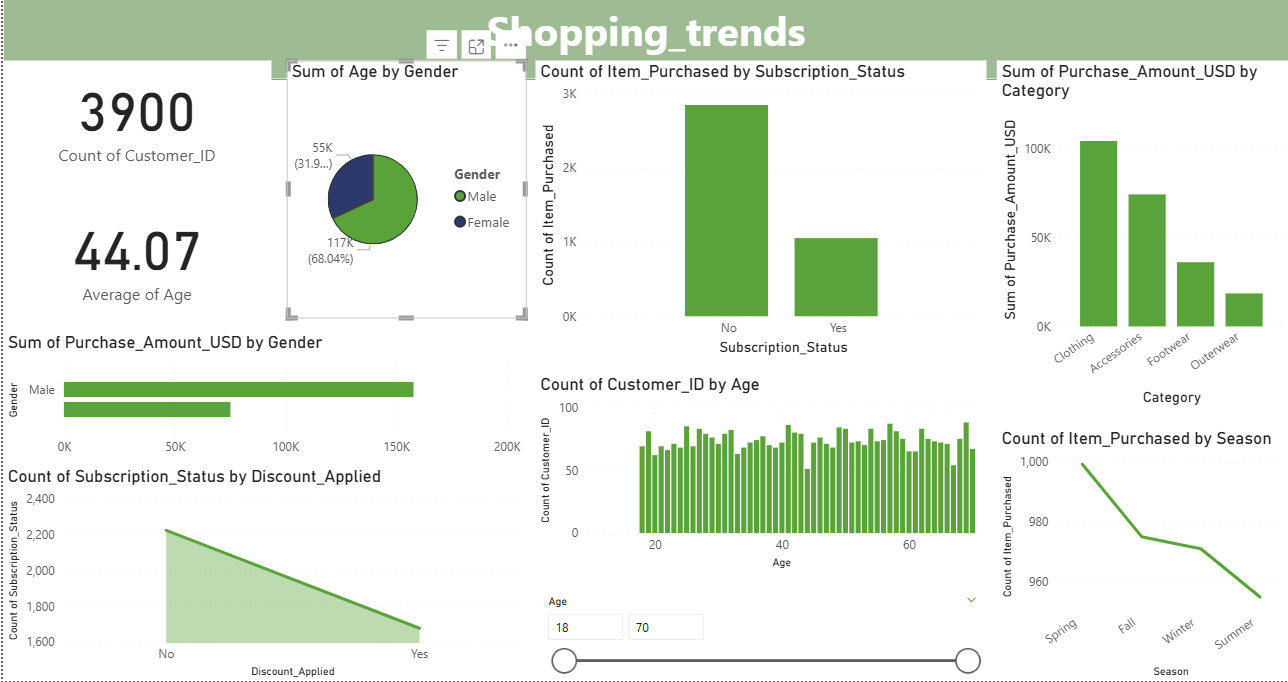

This screenshot's page, from the dashboard's own definition file:
{"tool":"powerbi","page":{"name":"Page 1","canvas":[1280,720],"ordinal":0},"visuals":[{"type":"shape","box":[0,20.6,1280.3,100.2],"z":0},{"type":"pieChart","fields":{"Category":["shopping_trends.Gender"],"Y":["Sum(shopping_trends.Age)"]},"box":[282.9,101.9,237.7,257.5],"z":1000},{"type":"clusteredColumnChart","fields":{"Y":["Sum(shopping_trends.Purchase_Amount_USD)"],"Category":["shopping_trends.Category"]},"box":[989.5,101.6,290.8,348.6],"z":2000},{"type":"columnChart","fields":{"Category":["shopping_trends.Subscription_Status"],"Y":["CountNonNull(shopping_trends.Item_Purchased)"]},"box":[530.5,101.9,448.5,298.5],"z":3000},{"type":"card","fields":{"Values":["CountNonNull(shopping_trends.Customer_ID)"]},"box":[0,101.6,267.3,111],"z":4000},{"type":"card","fields":{"Values":["Avg(shopping_trends.Age)"]},"box":[0,231.4,267.3,128.2],"z":5000},{"type":"barChart","fields":{"Category":["shopping_trends.Gender"],"Y":["Sum(shopping_trends.Purchase_Amount_USD)"]},"box":[0,372.1,520.6,132.9],"z":6000},{"type":"areaChart","fields":{"Category":["shopping_trends.Discount_Applied"],"Y":["CountNonNull(shopping_trends.Subscription_Status)"]},"box":[0,504.9,520.6,215.7],"z":7000},{"type":"lineChart","fields":{"Category":["shopping_trends.Season"],"Y":["CountNonNull(shopping_trends.Item_Purchased)"]},"box":[989.5,467.4,290.8,253.2],"z":8000},{"type":"lineClusteredColumnComboChart","fields":{"Y":["CountNonNull(shopping_trends.Customer_ID)"],"Category":["shopping_trends.Age"]},"box":[530.5,414.5,447,198.1],"z":8001},{"type":"slicer","fields":{"Values":["shopping_trends.Age"]},"box":[530.5,628.1,451.3,92],"z":8002}]}

Visuals, with their boxes on the page's 1280x720 design canvas (x1, y1, x2, y2). These are canvas units, not pixel positions in the 1288x682 screenshot, which may show the page scaled, cropped or inside an application window:
shape: pyautogui.locateOnScreen(0, 21, 1280, 121)
pieChart - shopping_trends.Gender x Sum(shopping_trends.Age): pyautogui.locateOnScreen(283, 102, 521, 359)
clusteredColumnChart - Sum(shopping_trends.Purchase_Amount_USD) x shopping_trends.Category: pyautogui.locateOnScreen(990, 102, 1280, 450)
columnChart - shopping_trends.Subscription_Status x CountNonNull(shopping_trends.Item_Purchased): pyautogui.locateOnScreen(530, 102, 979, 400)
card - CountNonNull(shopping_trends.Customer_ID): pyautogui.locateOnScreen(0, 102, 267, 213)
card - Avg(shopping_trends.Age): pyautogui.locateOnScreen(0, 231, 267, 360)
barChart - shopping_trends.Gender x Sum(shopping_trends.Purchase_Amount_USD): pyautogui.locateOnScreen(0, 372, 521, 505)
areaChart - shopping_trends.Discount_Applied x CountNonNull(shopping_trends.Subscription_Status): pyautogui.locateOnScreen(0, 505, 521, 721)
lineChart - shopping_trends.Season x CountNonNull(shopping_trends.Item_Purchased): pyautogui.locateOnScreen(990, 467, 1280, 721)
lineClusteredColumnComboChart - CountNonNull(shopping_trends.Customer_ID) x shopping_trends.Age: pyautogui.locateOnScreen(530, 414, 978, 613)
slicer - shopping_trends.Age: pyautogui.locateOnScreen(530, 628, 982, 720)
